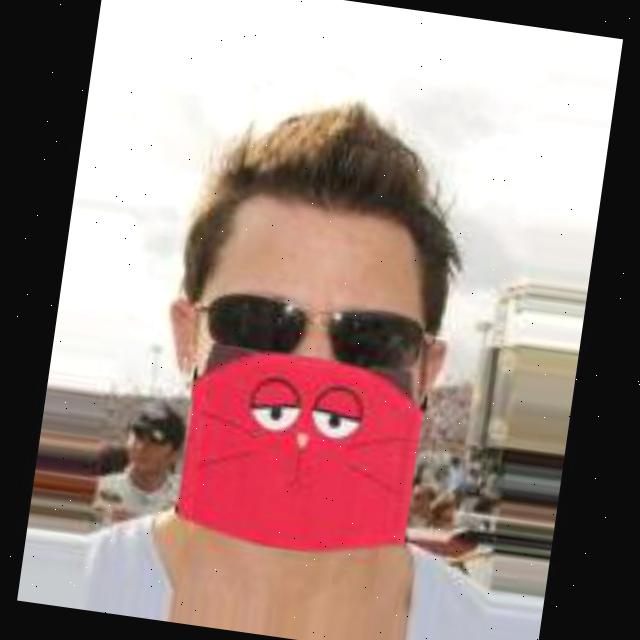suspicion: (104, 76, 533, 612)
